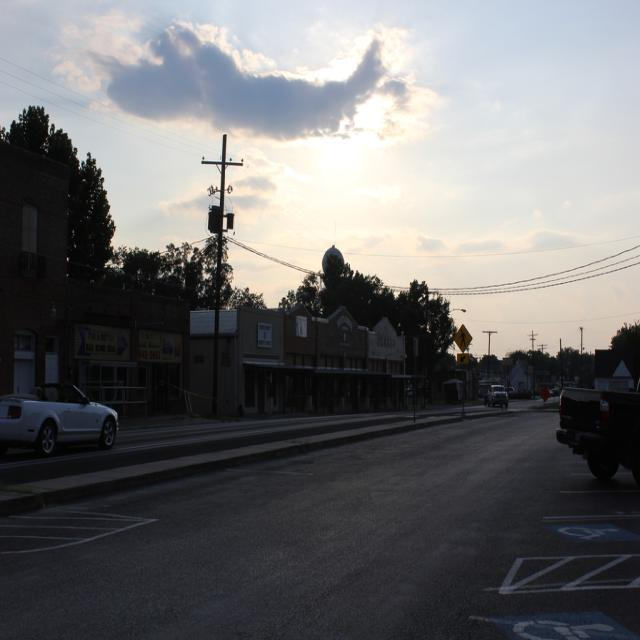car: (489, 382, 508, 406)
